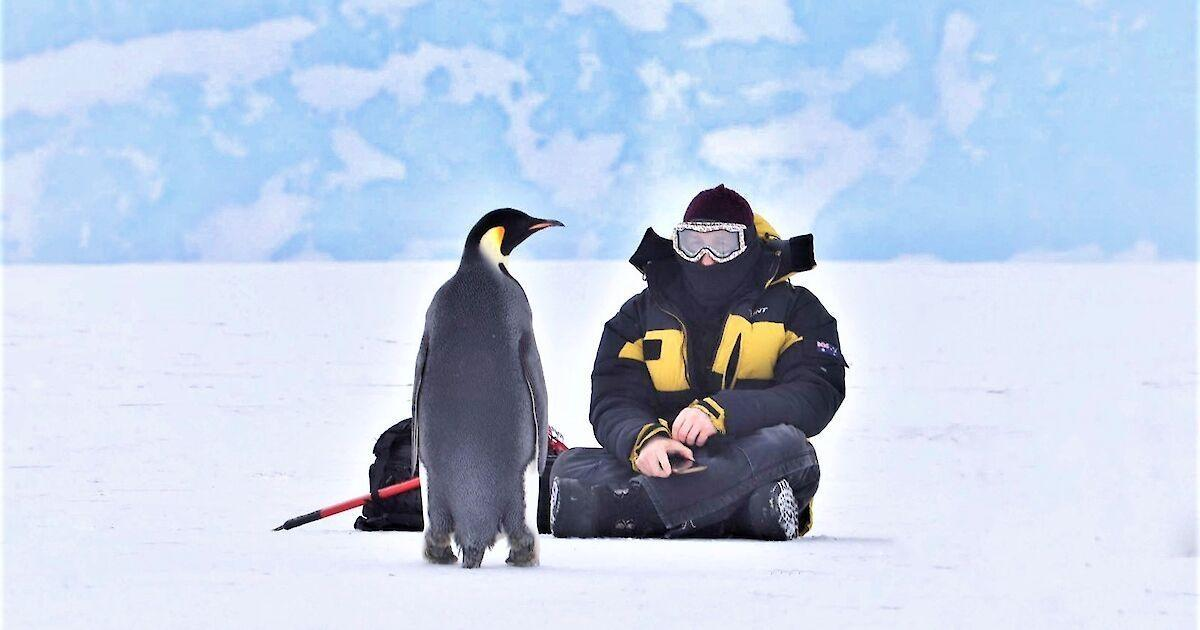Penguin: (411, 207, 567, 568)
